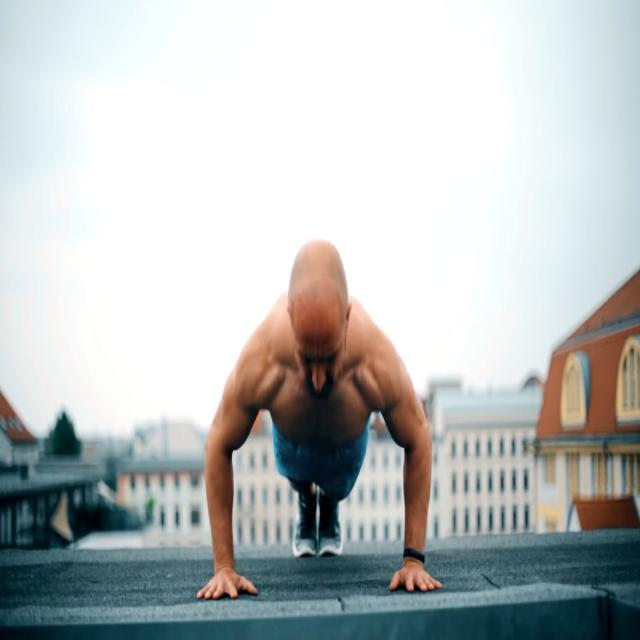9_cabeza_baja: (289, 238, 352, 400)
